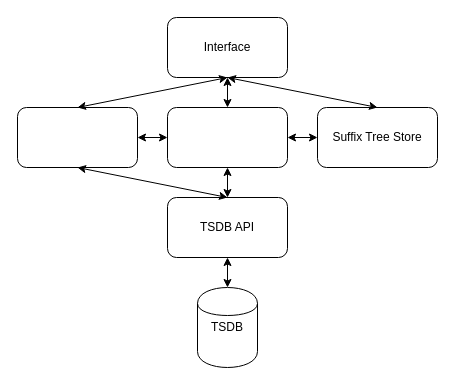
This 455x385 diagram has some shape labels left out. The shapes that lost their labels are listed below. From the top down, each one's centre as x and y in pixels, then its label:
At pixel 77 137: "Graph Render".
At pixel 227 137: "PAA / SAX".
